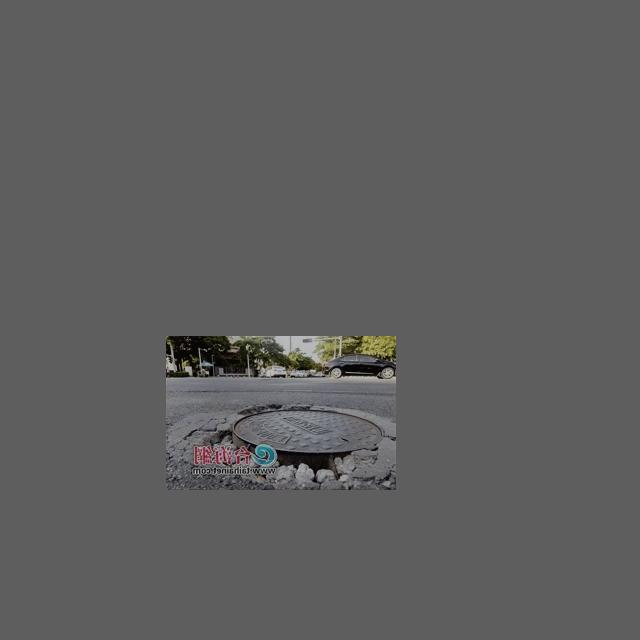circle: (179, 403, 393, 481)
